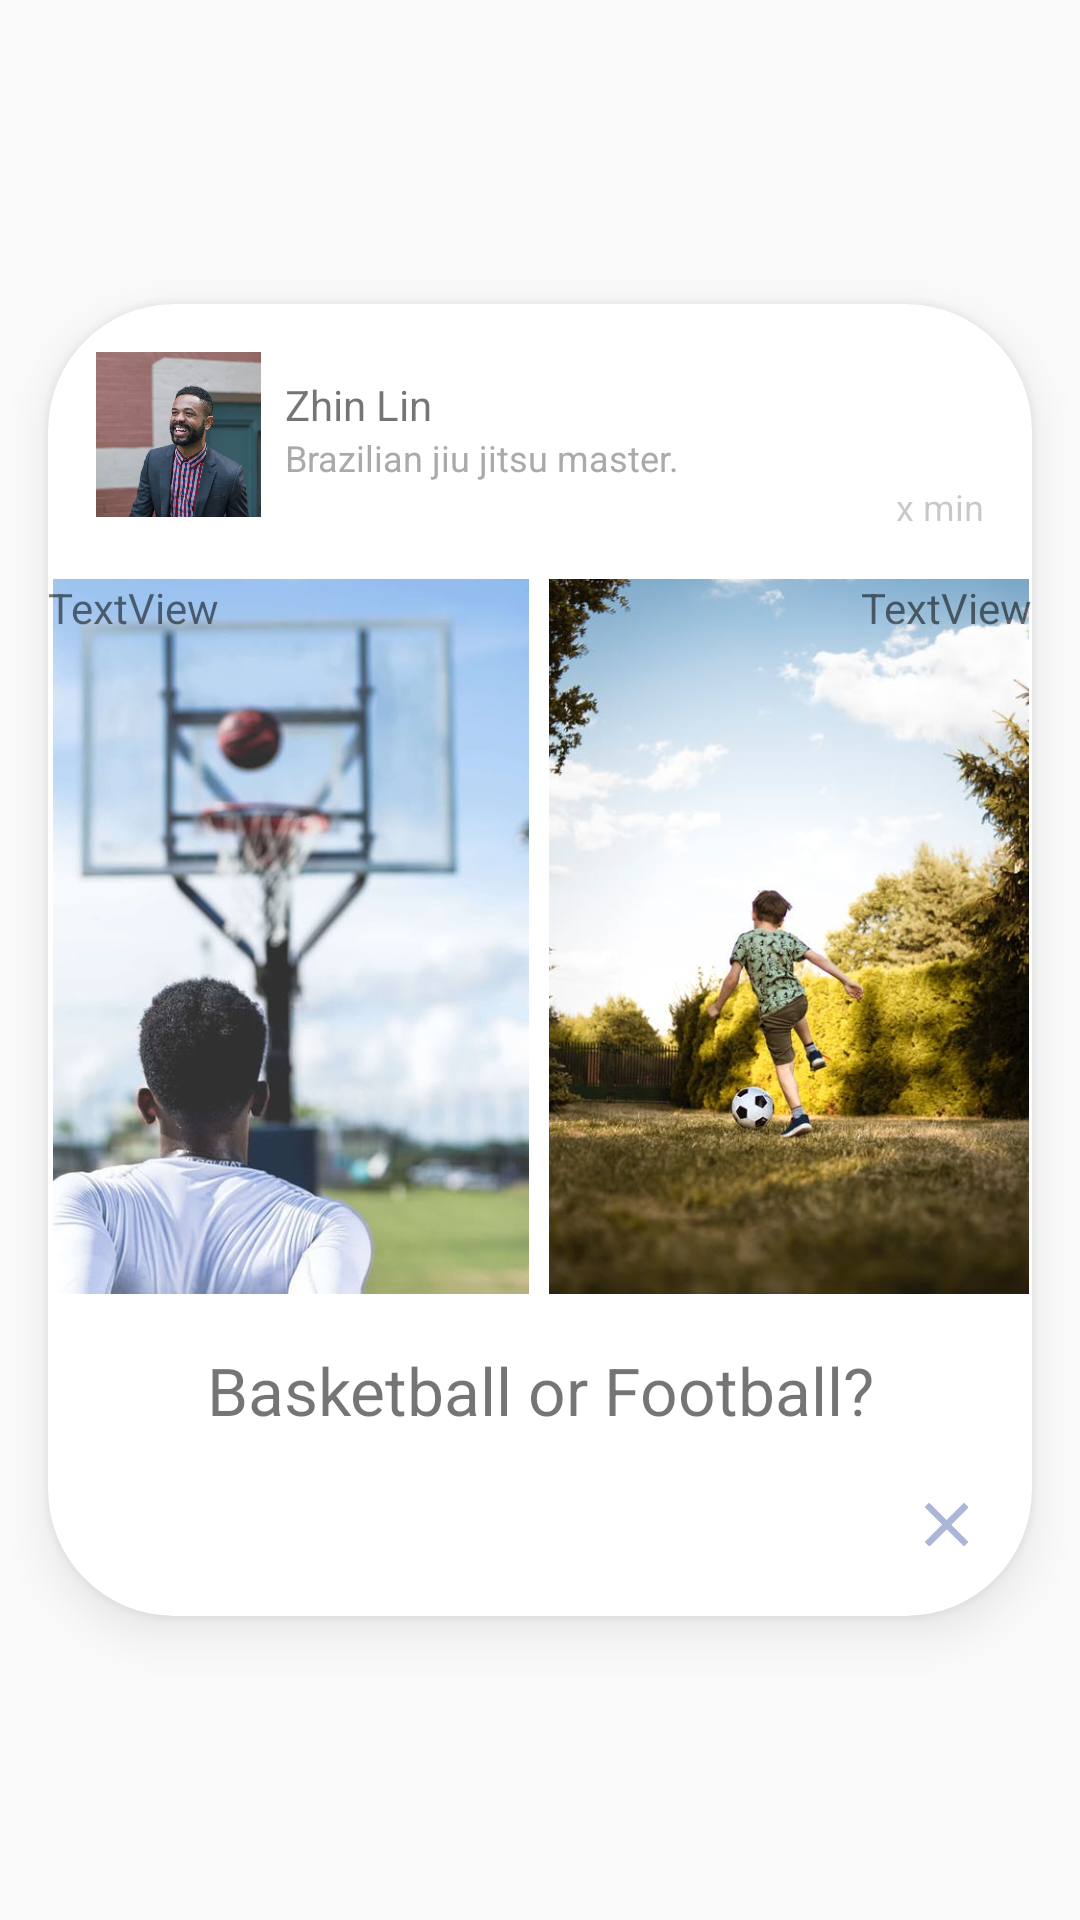

Screen size 1080w x 1920h. Icon name, then its box in pixels as Rect(x1, y1, x2, y2):
clear: Rect(925, 1503, 968, 1546)
